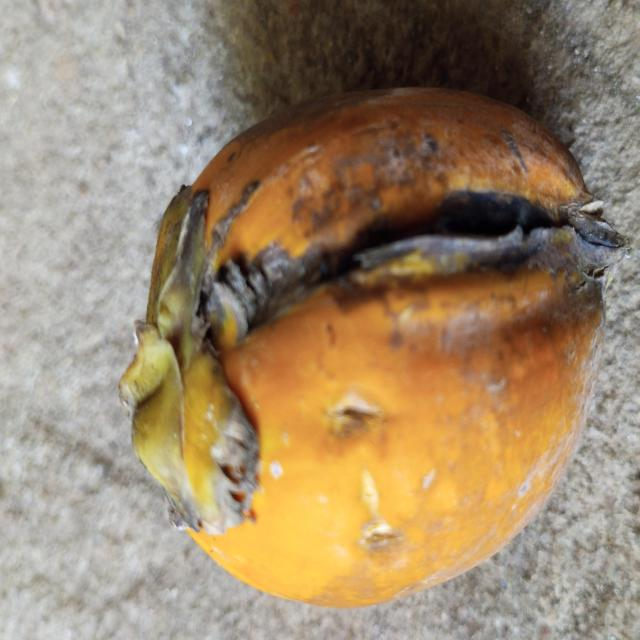damaged: (118, 86, 618, 611)
